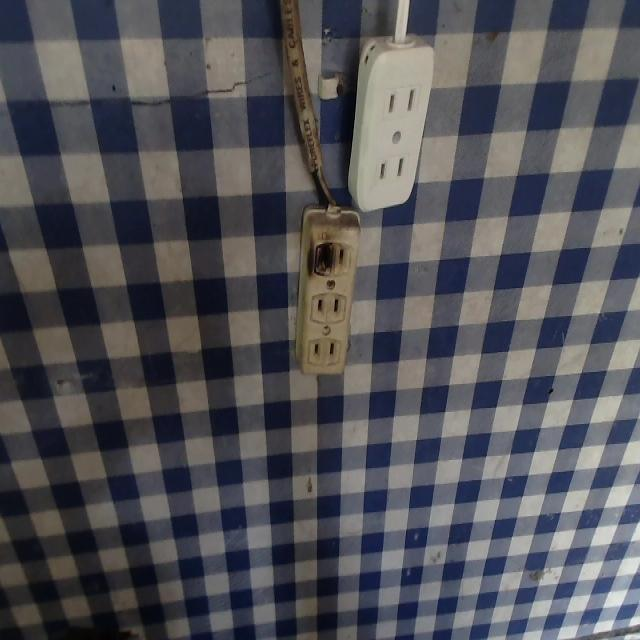-: (309, 233, 337, 284)
